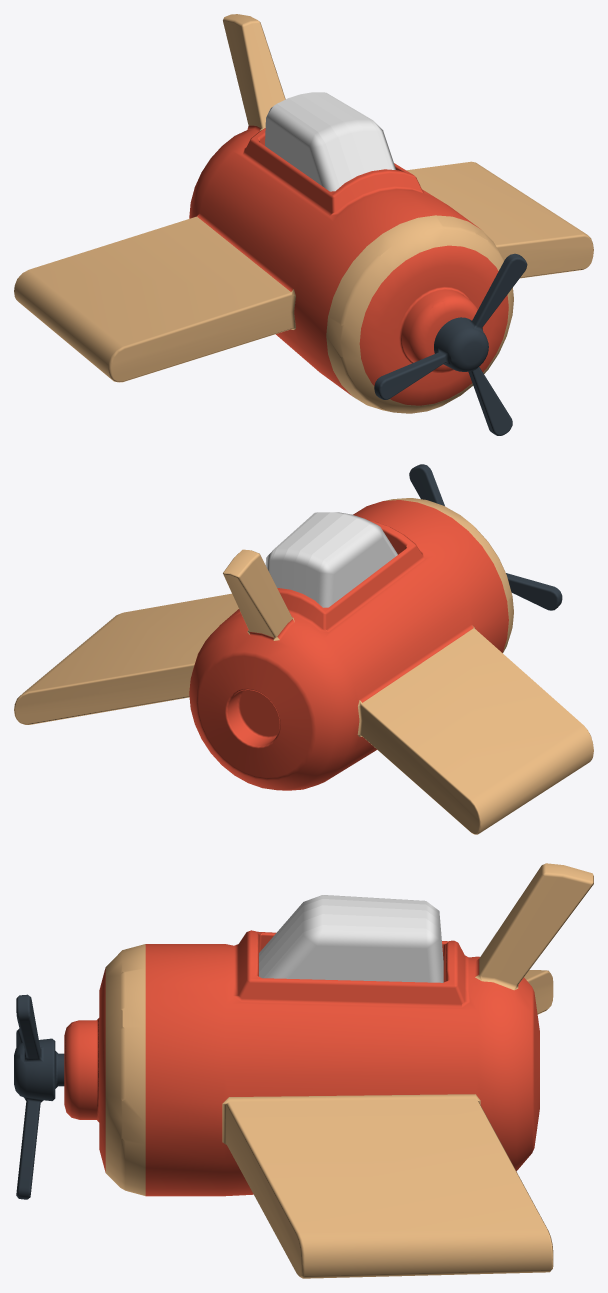
The model's file is Game Plane.fbx.
3 views of the same model, one above another, from view 1: azimuth 30°, elevation 25°; view 2: azimuth 150°, elevation 25°; view 3: azimuth 270°, elevation 25° (orthographic). The views are drawn at different scales.
Parts seen in each view (by area): view 1: Plane body, wind screen, Poppeller; view 2: Plane body, wind screen, Poppeller; view 3: Plane body, wind screen, Poppeller.
Part boxes in pixels (x1,y1,x2,y2): Plane body: (14,14,593,413); wind screen: (265,92,395,191); Poppeller: (374,253,527,435); Plane body: (14,498,593,834); wind screen: (265,512,397,607); Poppeller: (409,464,562,610); Plane body: (64,863,593,1278); wind screen: (259,895,443,982); Poppeller: (14,994,64,1199).
Size of the model in its own units: 252 by 132 by 218.
